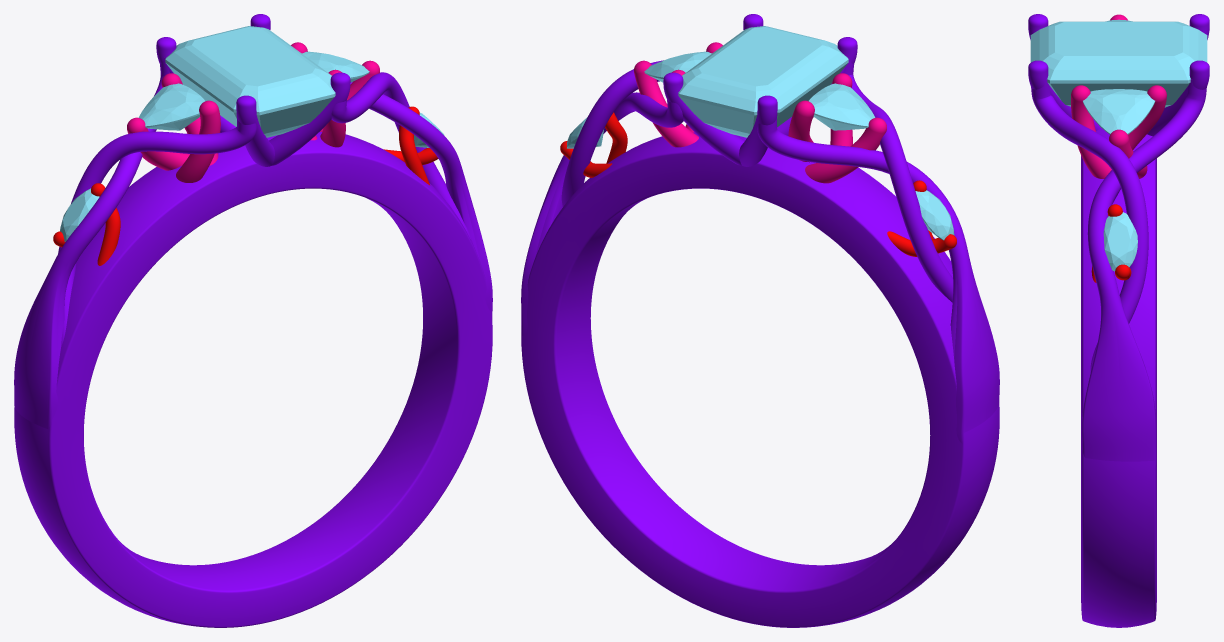
The picture shows the model from 3 angles, left to right: view 1: azimuth 30°, elevation 25°; view 2: azimuth 150°, elevation 25°; view 3: azimuth 270°, elevation 25°; orthographic projection.
Visible parts, largest first — view 1: Ring mit Ovalen 001.3dm, EMERALD, TRILLION CURVED (×2), OVAL; view 2: Ring mit Ovalen 001.3dm, EMERALD, TRILLION CURVED (×2), OVAL; view 3: Ring mit Ovalen 001.3dm, EMERALD, TRILLION CURVED, OVAL.
Part boxes in pixels (left/top/right/bottom): Ring mit Ovalen 001.3dm: left=14, top=14, right=492, bottom=627; EMERALD: left=165, top=26, right=335, bottom=137; TRILLION CURVED (×2): left=138, top=51, right=369, bottom=130; OVAL: left=60, top=188, right=99, bottom=241; Ring mit Ovalen 001.3dm: left=521, top=14, right=999, bottom=627; EMERALD: left=678, top=26, right=848, bottom=137; TRILLION CURVED (×2): left=644, top=51, right=875, bottom=130; OVAL: left=915, top=190, right=954, bottom=240; Ring mit Ovalen 001.3dm: left=1028, top=14, right=1209, bottom=627; EMERALD: left=1030, top=21, right=1207, bottom=107; TRILLION CURVED: left=1083, top=89, right=1155, bottom=134; OVAL: left=1103, top=212, right=1137, bottom=271.
Bounding box in the file's own units: 2.53 × 2.97 × 0.8669.
